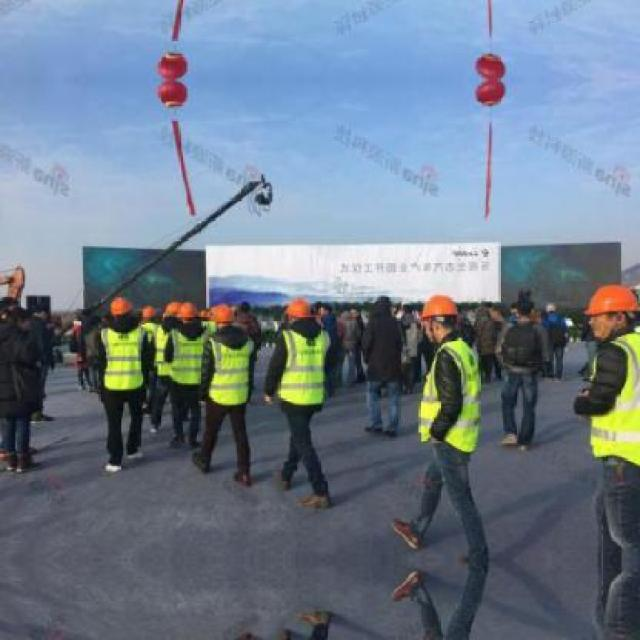Reflective-Jacket: (412, 337, 491, 466), (580, 332, 640, 477), (271, 329, 340, 418), (202, 332, 260, 412), (94, 324, 149, 398), (166, 324, 212, 390)
Safety-Helmet: (578, 277, 640, 325), (411, 288, 466, 329), (277, 289, 331, 329), (205, 297, 252, 335), (103, 291, 137, 323), (174, 297, 203, 325)
